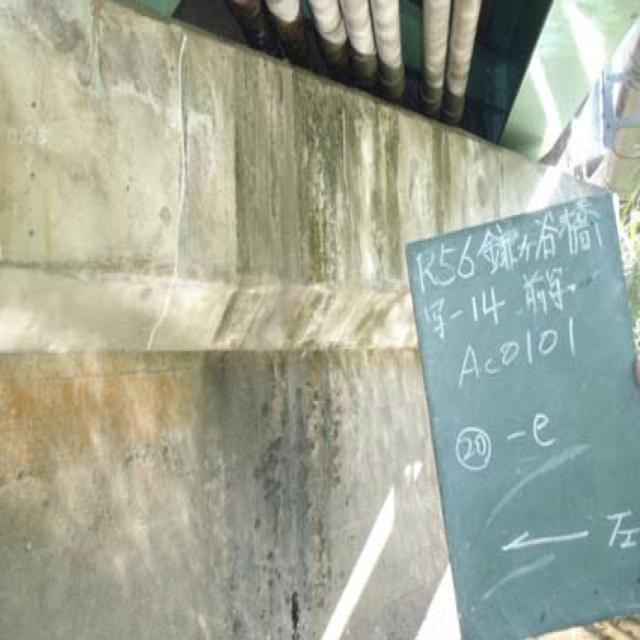freelime: (344, 102, 393, 287)
